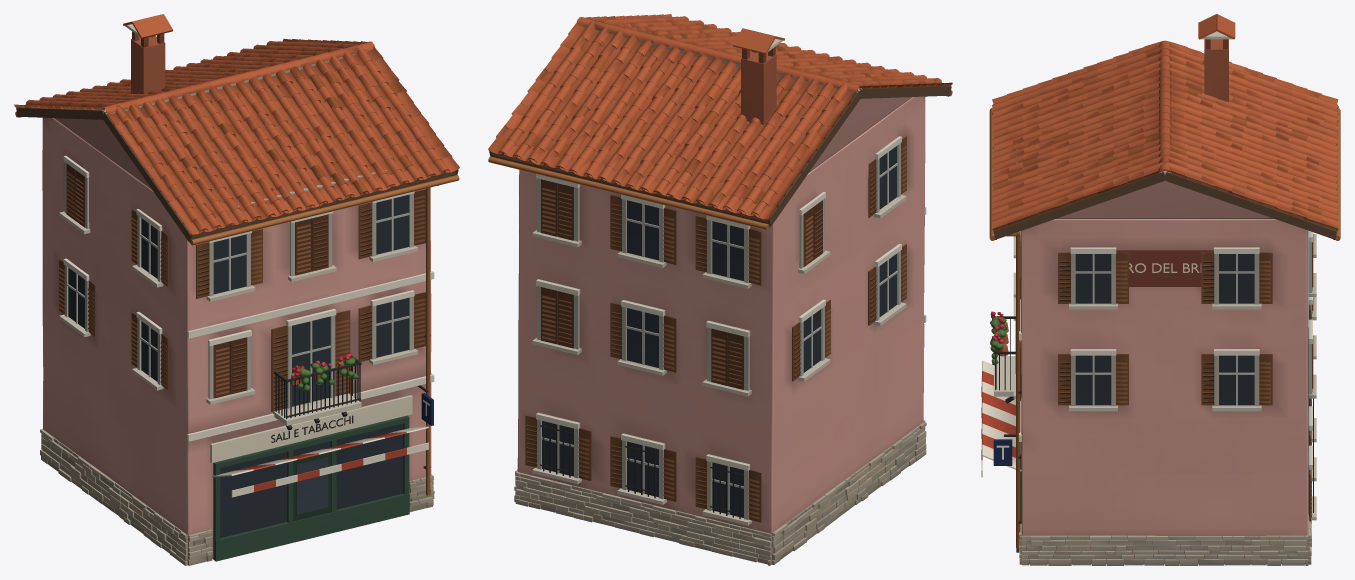
Rendered from tabaccheria.glb.
3 views of the same model, side by side, from view 1: azimuth 30°, elevation 25°; view 2: azimuth 150°, elevation 25°; view 3: azimuth 270°, elevation 25° (orthographic). The views are drawn at different scales.
Visible parts, largest first — view 1: tabaccheria; view 2: tabaccheria; view 3: tabaccheria.
Part boxes in pixels (bbox=[...]): tabaccheria: bbox=[14, 14, 459, 565]; tabaccheria: bbox=[488, 14, 952, 565]; tabaccheria: bbox=[981, 14, 1340, 565].
Bounding box in the file's own units: 6.88 × 11.19 × 8.02.
